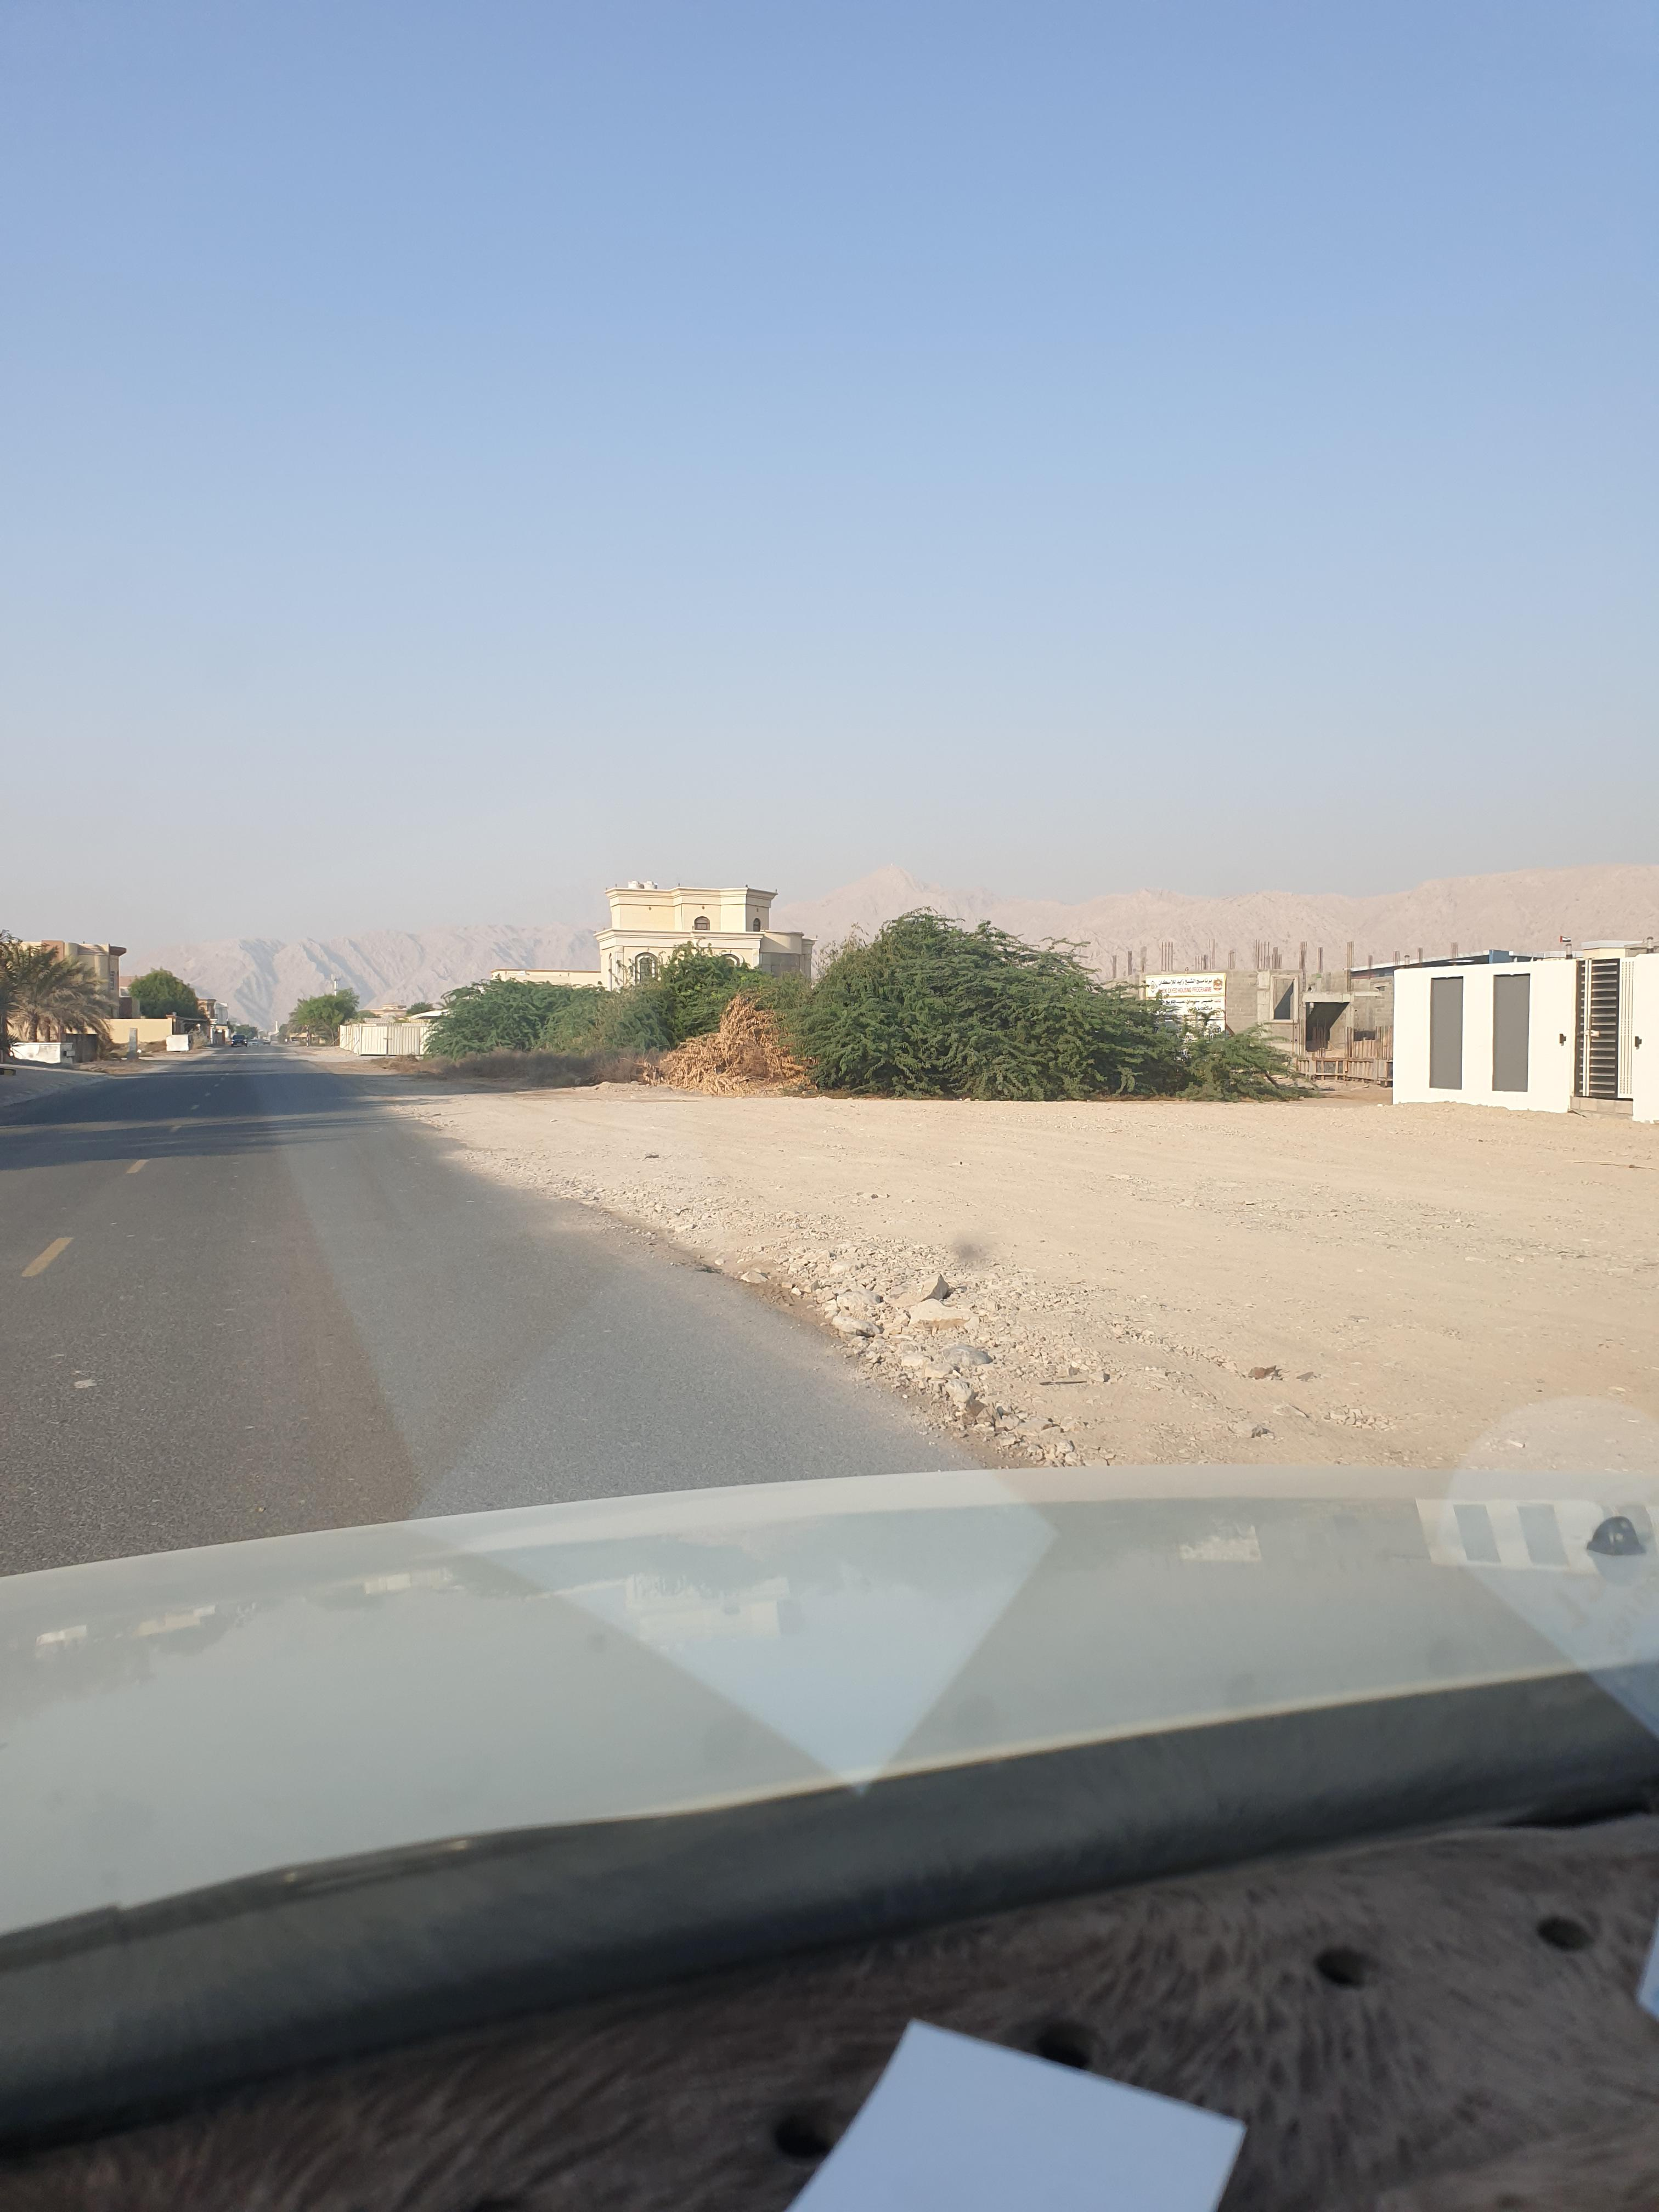fallen_trees: (636, 1059, 781, 1113)
